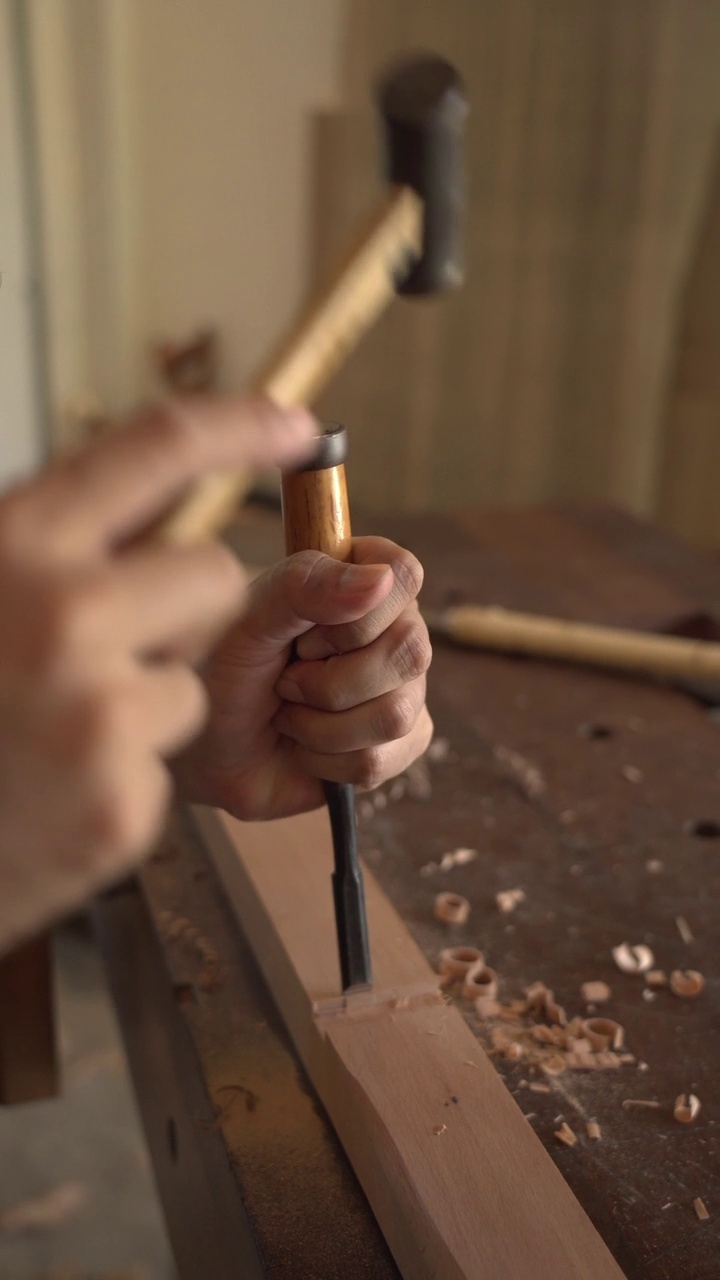hammer: (135, 49, 472, 560)
